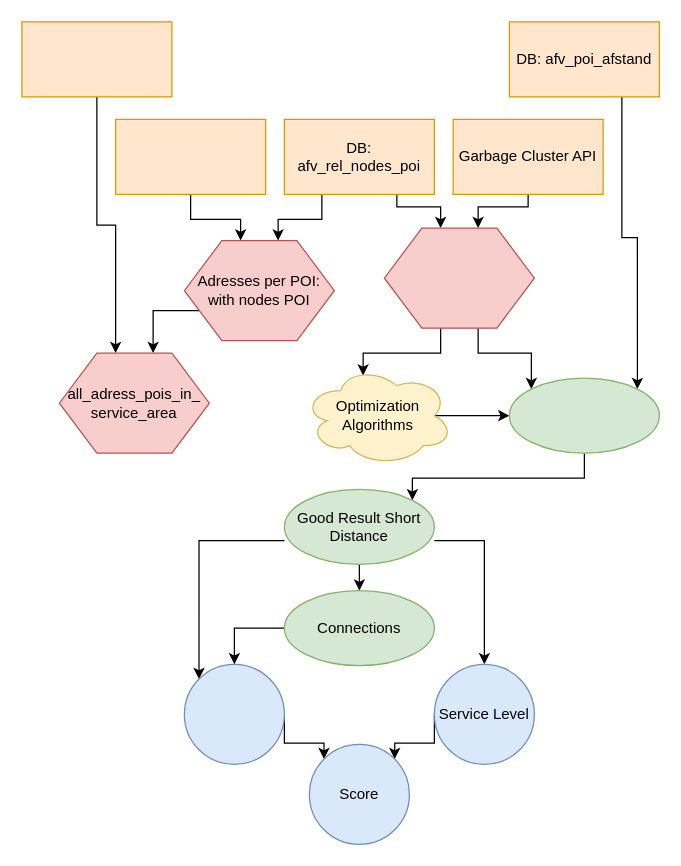
Some shapes in this 681 by 866 pixel diagram are drawn without their labels. The box of each missing label's shape, as (x1, y1, x2, y2) in pixels:
Adresses per POI: (114, 118, 266, 194)
Garbage collection shapefile: (21, 21, 172, 97)
Joined cluster information: (383, 227, 534, 328)
Joined_cluster_ distance: (508, 377, 659, 453)
Penalties: (183, 663, 284, 764)
